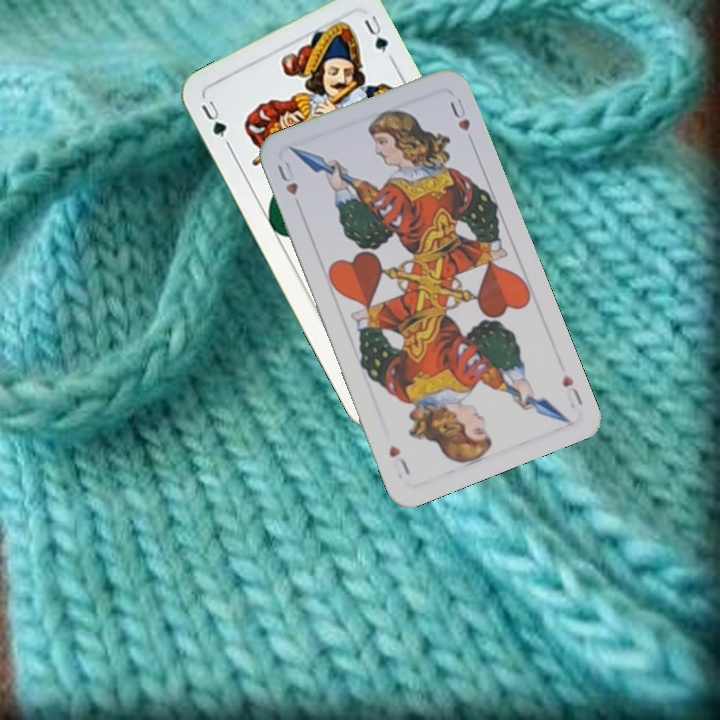GU: (197, 96, 229, 141)
HU: (273, 156, 301, 198), (558, 370, 586, 412)
